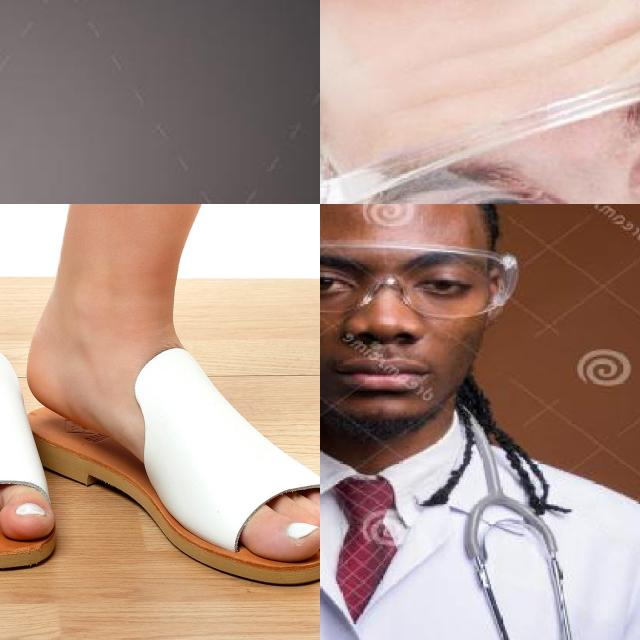Sandals: (21, 318, 320, 585), (0, 337, 61, 573)
face_nomask: (409, 83, 640, 204), (320, 252, 479, 395)
glasses: (320, 0, 640, 204), (320, 240, 518, 320)
person: (320, 204, 640, 640), (0, 0, 105, 204)
